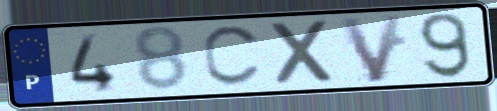4: (67, 32, 119, 94)
8: (130, 24, 197, 96)
9: (414, 11, 474, 81)
C: (200, 23, 265, 89)
V: (335, 12, 407, 86)
X: (267, 17, 340, 89)
